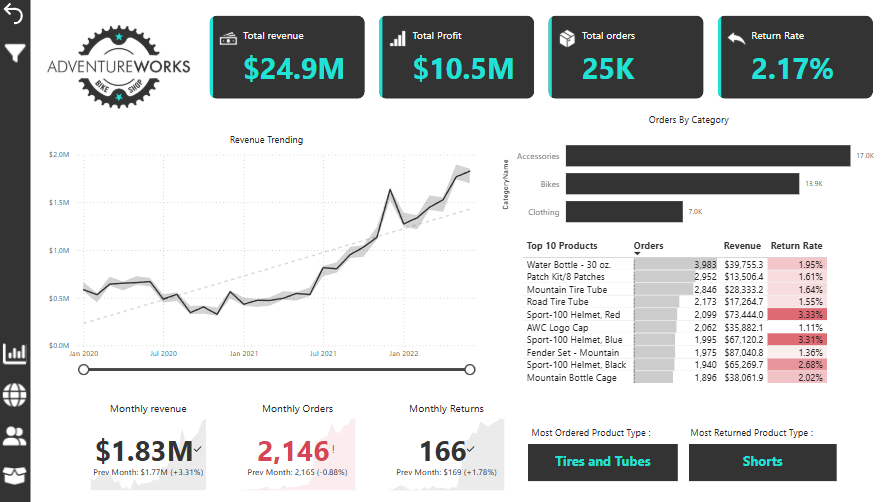

Layout of this report page (visuals, bound fields, positions):
{"tool":"powerbi","page":{"name":"Exce Dashboard","canvas":[1280,720],"ordinal":0},"visuals":[{"type":"image","title":"AW Logo","box":[41.4,20,260,157.1],"z":0},{"type":"actionButton","box":[1.2,485.5,41.6,46.5],"z":0,"group":"g1"},{"type":"shape","title":"Left Nav background ","box":[0,0,45,720],"z":1000},{"type":"actionButton","box":[1.2,602.1,41.6,46.5],"z":1000,"group":"g1"},{"type":"lineChart","title":"Revenue Trending","fields":{"Y":["Measure Table.Total revenue"],"Category":["Calendar Lookup.Start of Month"]},"box":[65.7,192.9,632.9,348.6],"z":2000},{"type":"actionButton","box":[1.2,543.8,41.6,46.5],"z":2000,"group":"g1"},{"type":"kpi","title":"Monthly revenue ","fields":{"Indicator":["Measure Table.Total revenue"],"TrendLine":["Calendar Lookup.Start of Month"],"Goal":["Measure Table.Previous Month Revenue"]},"box":[126.2,576.2,175,132.5],"z":3000},{"type":"actionButton","box":[1.2,660.4,41.6,46.5],"z":3000,"group":"g1"},{"type":"kpi","title":"Monthly Returns","fields":{"TrendLine":["Calendar Lookup.Start of Month"],"Indicator":["Measure Table.Total Returns"],"Goal":["Measure Table.Previous Month Returns"]},"box":[551.4,576,175.7,132.9],"z":4000},{"type":"kpi","title":"Monthly Orders","fields":{"TrendLine":["Calendar Lookup.Start of Month"],"Indicator":["Measure Table.Total orders"],"Goal":["Measure Table.Previous Month orders"]},"box":[338.5,575.7,175.7,132.9],"z":5000},{"type":"clusteredBarChart","title":"Orders By Category","fields":{"Category":["Product Categories Lookup.CategoryName"],"Y":["Measure Table.Total orders"]},"box":[712.5,165,545,178.8],"z":6000},{"type":"tableEx","fields":{"Values":["Product Lookup.ProductName","Measure Table.Total orders","Measure Table.Total revenue","Measure Table.Return Rate"]},"box":[742.5,339.8,465,227.5],"z":7000},{"type":"card","fields":{"Values":["Min(Product Subcategories Lookup.SubcategoryName)"]},"box":[756.2,637.8,213.8,52.5],"z":8000},{"type":"textbox","box":[756.1,606.7,195,32.5],"z":9000},{"type":"card","fields":{"Values":["Min(Product Subcategories Lookup.SubcategoryName)"]},"box":[985,637.8,211.2,52.5],"z":10000},{"type":"textbox","box":[982.9,607.2,224.3,32.9],"z":11000},{"type":"actionButton","box":[0,1.2,41.2,41.2],"z":12000},{"type":"group","id":"g1","title":"Navigation Button","box":[1.2,485.5,41.6,221.3],"z":13000},{"type":"actionButton","box":[3.8,60,41.2,37.5],"z":14000},{"type":"cardVisual","fields":{"Data":["Measure Table.Total revenue","Measure Table.Total Profit","Measure Table.Total orders","Measure Table.Return Rate"]},"box":[296,20,961.3,129.3],"z":16000}]}

Visuals, with their boxes in screenshot pixels (x1, y1, x2, y2), scaled from the page's 1280x720 canvas onto the 891x502 screenshot:
"AW Logo" image: l=29, t=14, r=210, b=123
actionButton: l=1, t=339, r=30, b=371
"Left Nav background " shape: l=0, t=0, r=31, b=501
actionButton: l=1, t=420, r=30, b=452
"Revenue Trending" lineChart: l=46, t=134, r=486, b=378
actionButton: l=1, t=379, r=30, b=412
"Monthly revenue " kpi: l=88, t=402, r=210, b=494
actionButton: l=1, t=460, r=30, b=493
"Monthly Returns" kpi: l=384, t=402, r=506, b=494
"Monthly Orders" kpi: l=236, t=401, r=358, b=494
"Orders By Category" clusteredBarChart: l=496, t=115, r=875, b=240
tableEx - Product Lookup.ProductName x Measure Table.Total orders: l=517, t=237, r=841, b=396
card - Min(Product Subcategories Lookup.SubcategoryName): l=526, t=445, r=675, b=481
textbox: l=526, t=423, r=662, b=446
card - Min(Product Subcategories Lookup.SubcategoryName): l=686, t=445, r=833, b=481
textbox: l=684, t=423, r=840, b=446
actionButton: l=0, t=1, r=29, b=30
"Navigation Button" group: l=1, t=339, r=30, b=493
actionButton: l=3, t=42, r=31, b=68
cardVisual - Measure Table.Total revenue x Measure Table.Total Profit: l=206, t=14, r=875, b=104
